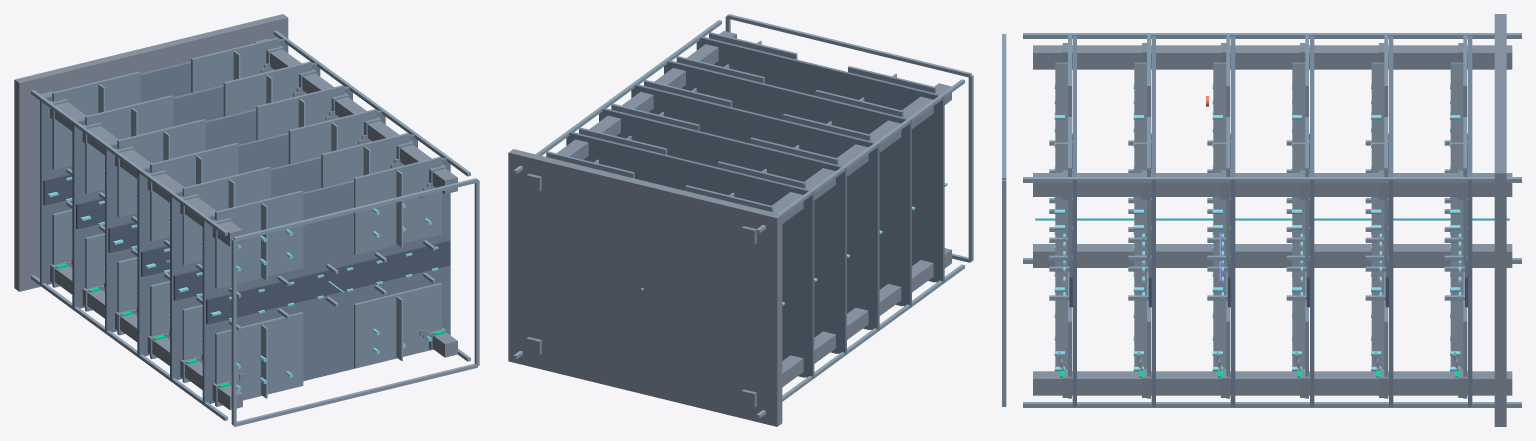
File: BuildingDigitalTwin_FloorPlan_6F_3D_Open.glb
3 views of the same model, side by side, from view 1: azimuth 30°, elevation 25°; view 2: azimuth 150°, elevation 25°; view 3: azimuth 270°, elevation 25° (orthographic). The views are drawn at different scales.
Visible parts, largest first — view 1: Floor_6_Slab, DigitalTwin_Base, Floor_6_Corridor, F6_C区_Zone, F6_A区_Zone, F6_B区_Zone, F6_D区_Zone, Floor_2_Slab, Floor_4_Slab, Floor_5_Slab, Floor_3_Slab, Floor_1_Slab (+35 smaller); view 2: DigitalTwin_Base, Floor_4_Slab, Floor_6_Slab, Floor_2_Slab, Floor_3_Slab, Floor_5_Slab, Shaft_-6.2_-4.5, Shaft_-6.2_4.5, Shaft_6.2_4.5, RoofBeamY_5.1, Frame_-7.0_5.1, Frame_7.0_5.1 (+14 smaller); view 3: Shaft_6.2_-4.5, Shaft_-6.2_4.5, Shaft_-6.2_-4.5, Shaft_6.2_4.5, DigitalTwin_Base, Frame_7.0_5.1, Frame_7.0_-5.1, Frame_-7.0_5.1, Floor_4_Slab, Floor_1_Slab, Floor_2_Slab, Floor_3_Slab (+35 smaller).
Boxes of the visible parts, bbox=[...] form: Floor_6_Slab: bbox=[202, 158, 450, 405]; DigitalTwin_Base: bbox=[14, 14, 288, 291]; Floor_6_Corridor: bbox=[206, 240, 450, 324]; F6_C区_Zone: bbox=[354, 156, 441, 254]; F6_A区_Zone: bbox=[215, 190, 303, 288]; F6_B区_Zone: bbox=[215, 312, 303, 406]; F6_D区_Zone: bbox=[354, 283, 441, 368]; Floor_2_Slab: bbox=[72, 62, 320, 309]; Floor_4_Slab: bbox=[137, 110, 385, 357]; Floor_5_Slab: bbox=[170, 134, 417, 381]; Floor_3_Slab: bbox=[105, 86, 352, 333]; Floor_1_Slab: bbox=[40, 39, 287, 286]; DigitalTwin_Base: bbox=[508, 149, 782, 426]; Floor_4_Slab: bbox=[631, 84, 879, 331]; Floor_6_Slab: bbox=[696, 36, 944, 283]; Floor_2_Slab: bbox=[566, 131, 814, 378]; Floor_3_Slab: bbox=[599, 108, 846, 355]; Floor_5_Slab: bbox=[664, 60, 911, 307]; Shaft_-6.2_-4.5: bbox=[741, 248, 951, 407]; Shaft_-6.2_4.5: bbox=[741, 83, 951, 244]; Shaft_6.2_4.5: bbox=[526, 31, 736, 191]; RoofBeamY_5.1: bbox=[727, 14, 971, 77]; Frame_-7.0_5.1: bbox=[756, 79, 964, 233]; Frame_7.0_5.1: bbox=[513, 20, 721, 174]; Shaft_6.2_-4.5: bbox=[1033, 371, 1512, 395]; Shaft_-6.2_4.5: bbox=[1033, 45, 1512, 69]; Shaft_-6.2_-4.5: bbox=[1033, 244, 1512, 267]; Shaft_6.2_4.5: bbox=[1033, 173, 1512, 196]; DigitalTwin_Base: bbox=[1494, 14, 1506, 426]; Frame_7.0_5.1: bbox=[1023, 177, 1521, 182]; Frame_7.0_-5.1: bbox=[1023, 402, 1521, 407]; Frame_-7.0_5.1: bbox=[1023, 33, 1521, 38]; Floor_4_Slab: bbox=[1230, 36, 1235, 406]; Floor_1_Slab: bbox=[1468, 36, 1472, 406]; Floor_2_Slab: bbox=[1389, 36, 1393, 406]; Floor_3_Slab: bbox=[1310, 36, 1314, 406].
Size of the model in its own units: 15.5 by 11.5 by 21.37.
